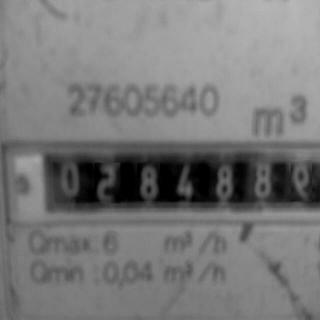1: (61, 161, 82, 199)
5: (177, 162, 196, 200)
6: (95, 163, 121, 204)
9: (137, 163, 160, 203), (216, 163, 237, 203), (252, 161, 272, 200)
:: (292, 161, 313, 202)
